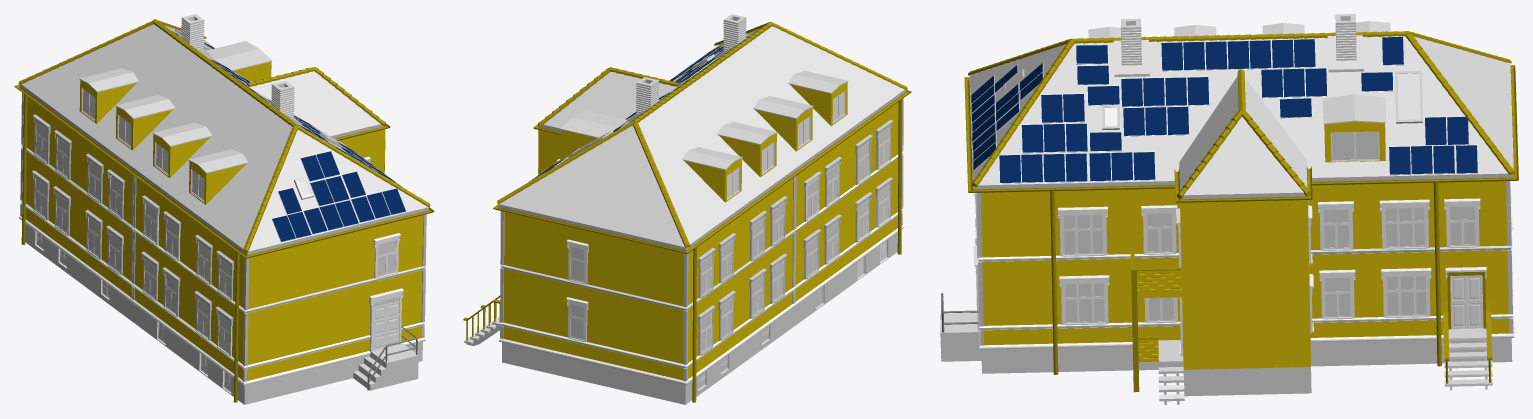
The model's file is house_panel_2_0101.glb.
3 views of the same model, side by side, from view 1: azimuth 30°, elevation 25°; view 2: azimuth 150°, elevation 25°; view 3: azimuth 270°, elevation 25° (orthographic). The views are drawn at different scales.
Parts seen in each view (by area): view 1: SketchUp.874, SketchUp.871, SketchUp.865, SketchUp.002, SketchUp.511, SketchUp.484, SketchUp.001, SketchUp.872, SketchUp.015, SketchUp.057, SketchUp.052, SketchUp.734 (+33 smaller); view 2: SketchUp.874, SketchUp.871, SketchUp.002, SketchUp.865, SketchUp.484, SketchUp.511, SketchUp.001, SketchUp.872, SketchUp.057, SketchUp.052, SketchUp.734, SketchUp.522 (+14 smaller); view 3: SketchUp.874, SketchUp.871, SketchUp.868, SketchUp.865, SketchUp.002, SketchUp, SketchUp.511, SketchUp.872, SketchUp.734, SketchUp.057, SketchUp.484, SketchUp.019 (+72 smaller).
Part boxes in pixels (x1,y1,x2,y2): SketchUp.874: (25,97,423,380); SketchUp.871: (21,24,428,251); SketchUp.865: (249,71,380,136); SketchUp.002: (25,224,422,404); SketchUp.511: (14,40,434,258); SketchUp.484: (19,216,425,385); SketchUp.001: (109,286,199,370); SketchUp.872: (20,84,428,255); SketchUp.015: (353,351,418,390); SketchUp.057: (20,200,425,369); SketchUp.052: (21,144,426,313); SketchUp.734: (205,41,272,70); SketchUp.874: (503,102,898,380); SketchUp.871: (499,26,904,247); SketchUp.002: (502,232,897,404); SketchUp.865: (544,72,677,128); SketchUp.484: (499,225,904,384); SketchUp.511: (493,48,911,253); SketchUp.001: (770,262,857,343); SketchUp.872: (498,89,905,250); SketchUp.057: (499,209,903,368); SketchUp.052: (500,153,902,310); SketchUp.734: (560,110,626,138); SketchUp.522: (790,82,847,126); SketchUp.874: (981,109,1508,345); SketchUp.871: (969,36,1513,185); SketchUp.868: (1180,200,1310,369); SketchUp.865: (1179,76,1307,195); SketchUp.002: (981,338,1512,373); SketchUp: (1183,366,1311,396); SketchUp.511: (964,65,1518,192); SketchUp.872: (969,77,1513,189); SketchUp.734: (1322,94,1386,124); SketchUp.057: (975,218,1513,330); SketchUp.484: (975,240,1514,349); SketchUp.019: (1137,270,1181,298).
Size of the model in its own units: 13.74 by 13.47 by 22.92.
